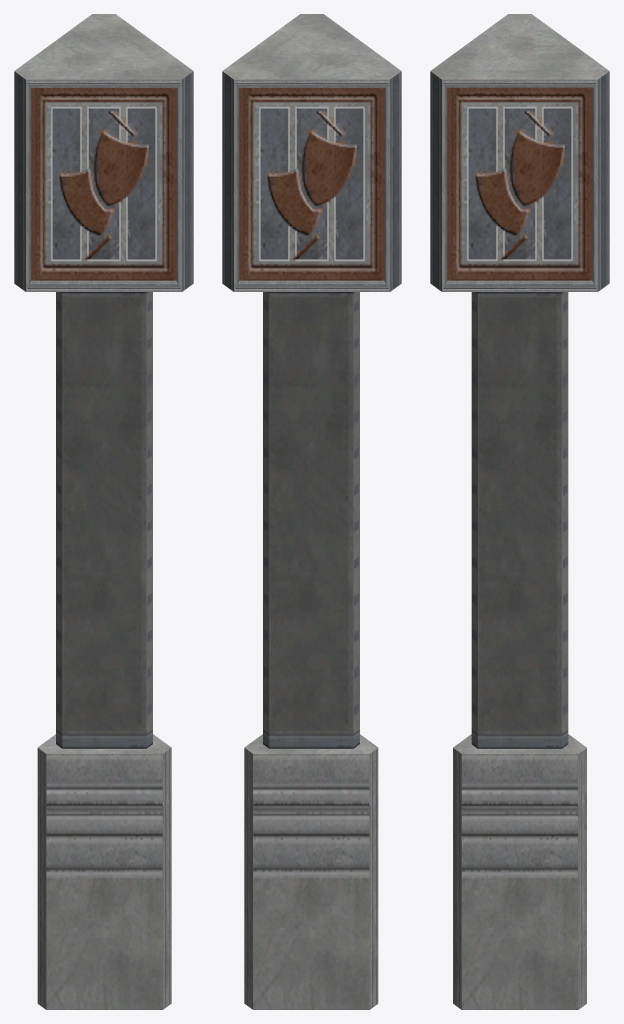
File: thm_sign_corl_standing_l0.fbx
The picture shows the model from 3 angles, left to right: view 1: azimuth 30°, elevation 25°; view 2: azimuth 150°, elevation 25°; view 3: azimuth 270°, elevation 25°; orthographic projection.
Parts seen in each view (by area): view 1: mesh_node; view 2: mesh_node; view 3: mesh_node.
Part boxes in pixels (x1=…): mesh_node: x1=14, y1=14, x2=193, y2=1009; mesh_node: x1=222, y1=14, x2=401, y2=1009; mesh_node: x1=430, y1=14, x2=609, y2=1009.
Bounding box in the file's own units: 0.7463 × 4.96 × 0.8618.
2 materials, 2 textured.
